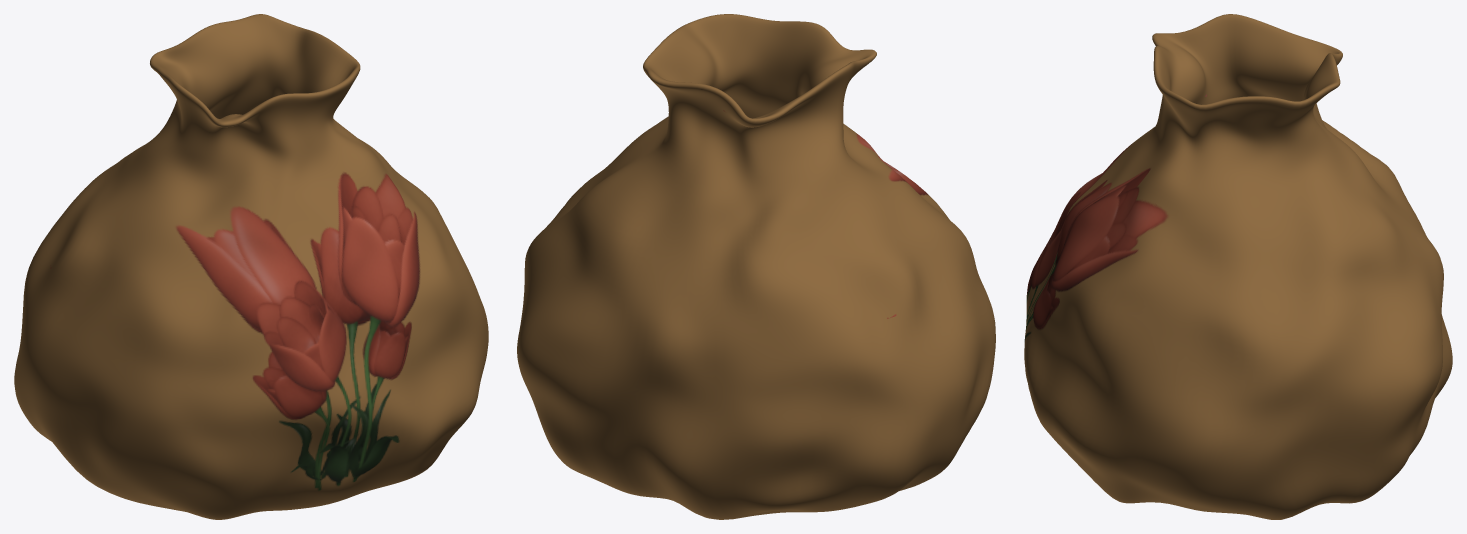
File: tulip_seed.fbx
3 views of the same model, side by side, from view 1: azimuth 30°, elevation 25°; view 2: azimuth 150°, elevation 25°; view 3: azimuth 270°, elevation 25° (orthographic). The views are drawn at different scales.
Visible parts, largest first — view 1: zak; view 2: zak; view 3: zak.
Part boxes in pixels (x1=…): zak: x1=14, y1=14, x2=488, y2=519; zak: x1=517, y1=14, x2=995, y2=519; zak: x1=1024, y1=14, x2=1452, y2=519.
Size of the model in its own units: 196 by 175 by 183.
Materials: 1 (1 with a texture image).
